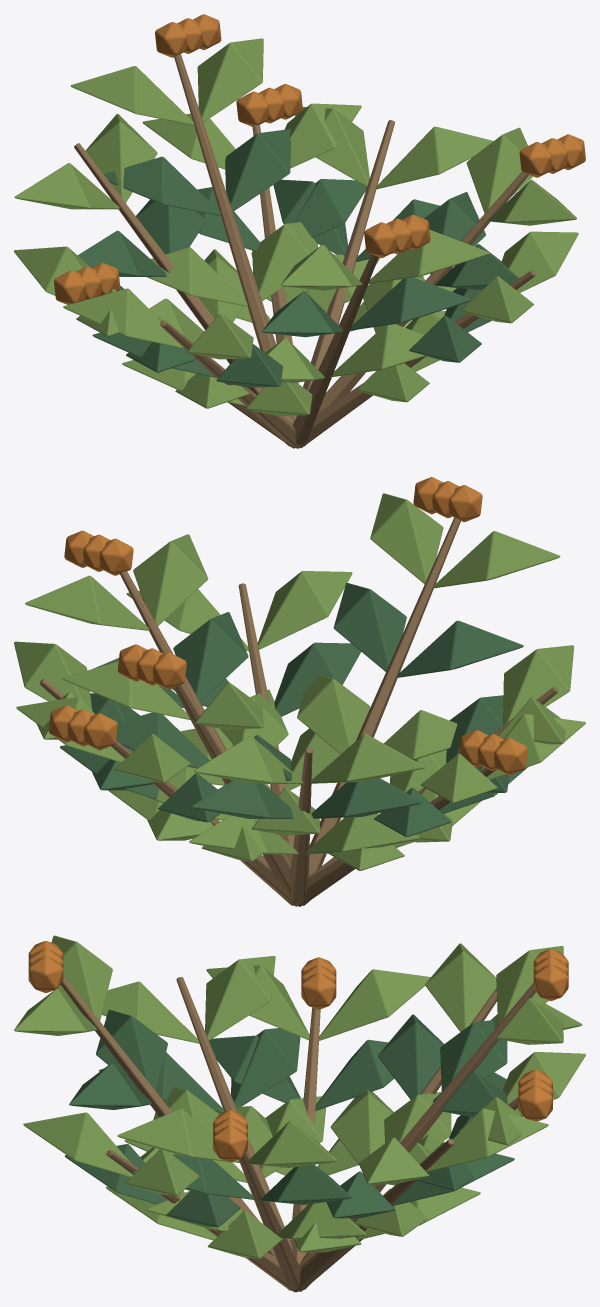
The model's file is woodland_brush.glb.
3 renders of one model, top to bottom at view 1: azimuth 30°, elevation 25°; view 2: azimuth 150°, elevation 25°; view 3: azimuth 270°, elevation 25°, orthographic. The views are drawn at different scales.
Parts seen in each view (by area): view 1: PointedLeaf.006, PointedLeaf.008, WoodyStem.004, Berry.004; view 2: PointedLeaf.006, PointedLeaf.008, WoodyStem.004, Berry.004; view 3: PointedLeaf.006, PointedLeaf.008, WoodyStem.004, Berry.004.
Part boxes in pixels (bbox=[...]): PointedLeaf.006: bbox=[14, 38, 578, 415]; PointedLeaf.008: bbox=[78, 129, 519, 387]; WoodyStem.004: bbox=[74, 54, 535, 448]; Berry.004: bbox=[54, 14, 585, 304]; PointedLeaf.006: bbox=[14, 493, 585, 870]; PointedLeaf.008: bbox=[60, 583, 527, 836]; WoodyStem.004: bbox=[39, 517, 557, 906]; Berry.004: bbox=[48, 477, 527, 775]; PointedLeaf.006: bbox=[14, 935, 585, 1258]; PointedLeaf.008: bbox=[65, 1009, 523, 1227]; WoodyStem.004: bbox=[60, 975, 535, 1292]; Berry.004: bbox=[28, 941, 568, 1162].
Size of the model in its own units: 1.27 by 0.8107 by 1.24.
